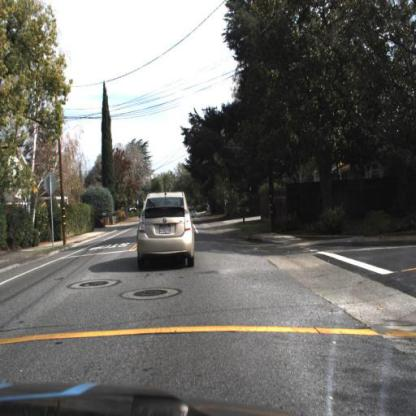car: (137, 188, 193, 274)
